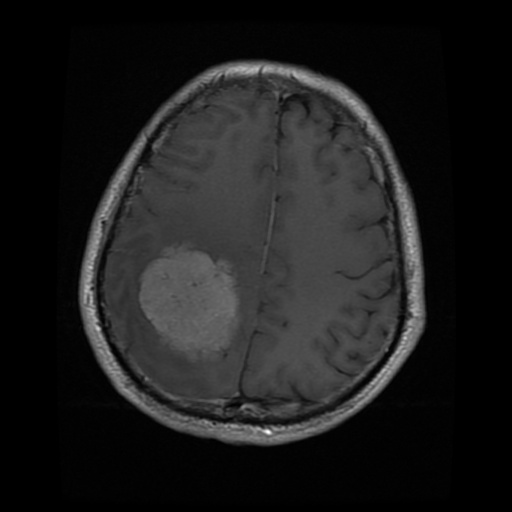meningioma: (139, 248, 233, 352)
